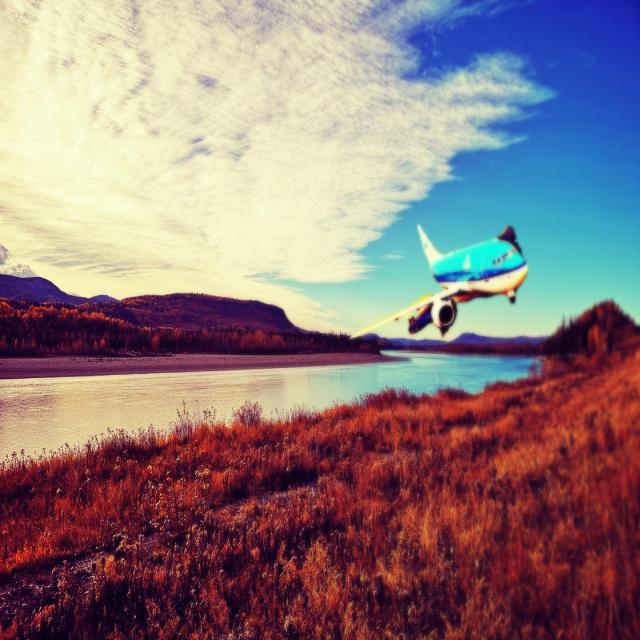airplane: (350, 222, 528, 339)
